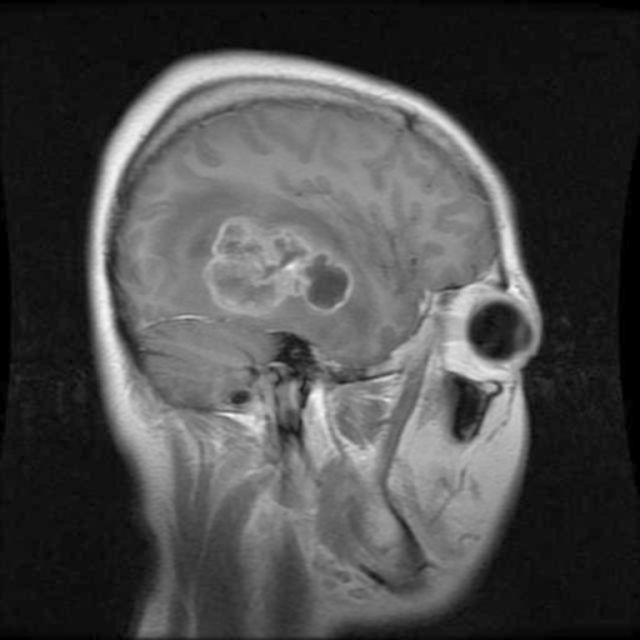pituitary tumor: (214, 212, 352, 314)
